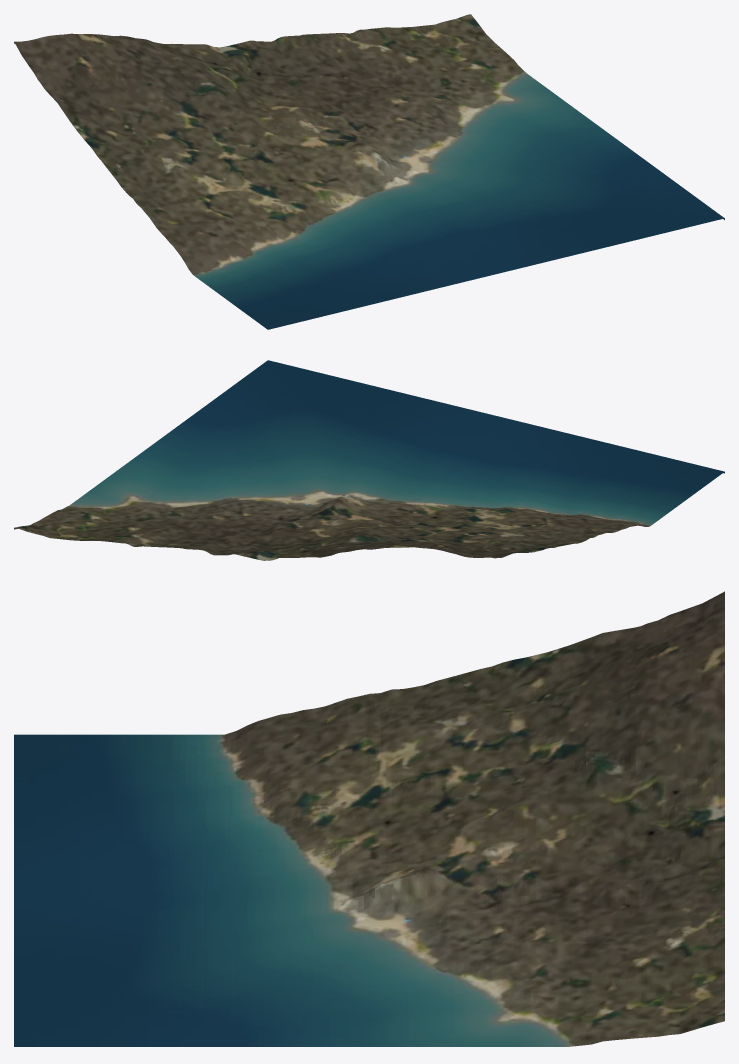
The picture shows the model from 3 angles, top to bottom: view 1: azimuth 30°, elevation 25°; view 2: azimuth 150°, elevation 25°; view 3: azimuth 270°, elevation 25°; orthographic projection. The views are drawn at different scales.
Size of the model in its own units: 250 by 54.54 by 241.
1 material, 1 textured.
